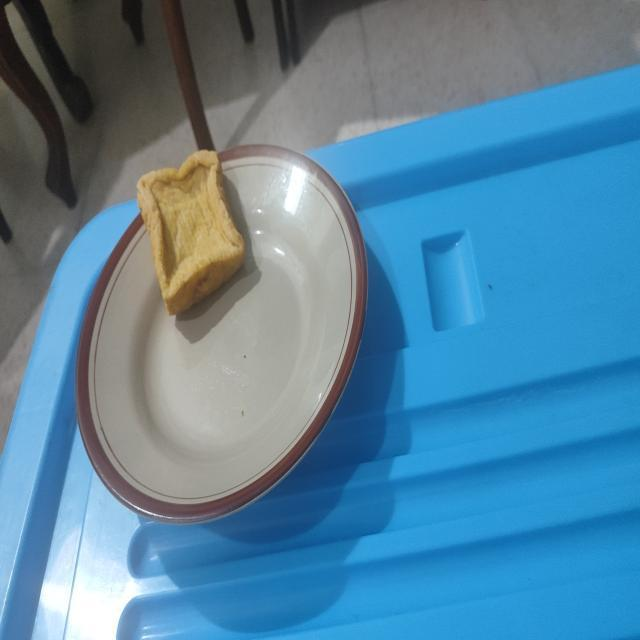tahu_goreng: (137, 150, 245, 314)
